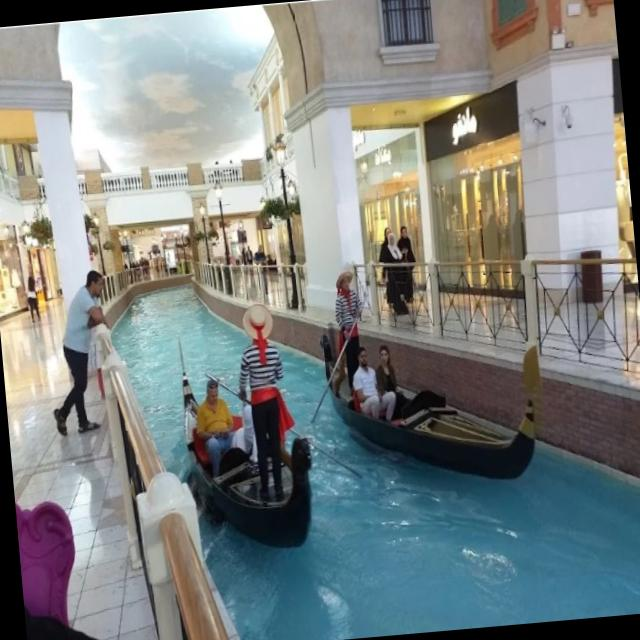boat: (311, 290, 560, 511), (162, 310, 326, 566)
